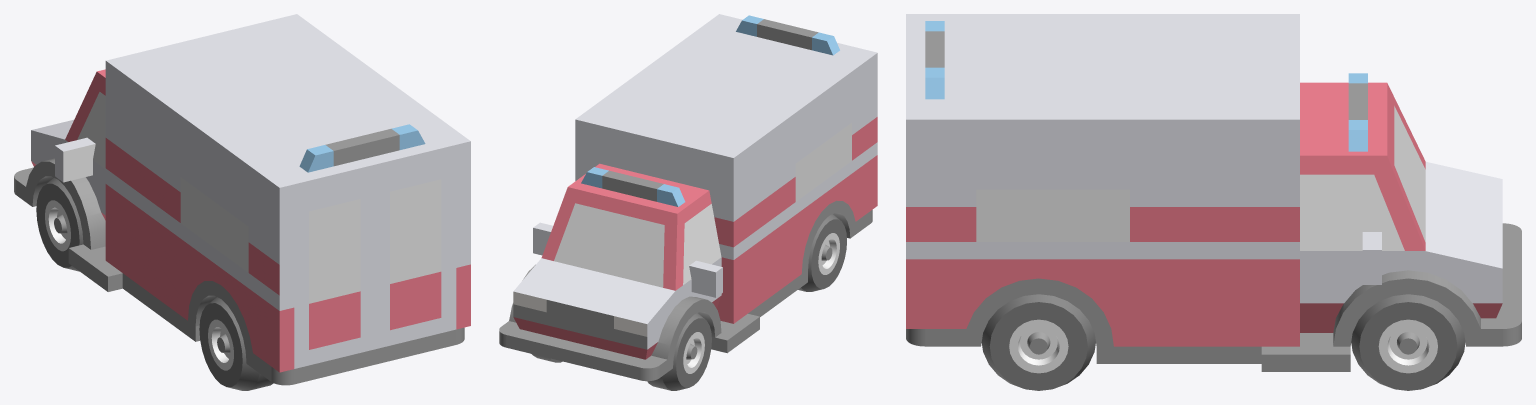
The model's file is ambulance.gltf.
The picture shows the model from 3 angles, left to right: view 1: azimuth 30°, elevation 25°; view 2: azimuth 150°, elevation 25°; view 3: azimuth 270°, elevation 25°; orthographic projection. The views are drawn at different scales.
Visible parts, largest first — view 1: body, doorRight, doorLeft, wheel_backLeft, wheel_frontLeft; view 2: body, wheel_frontLeft, wheel_backLeft; view 3: body, wheel_frontRight, wheel_backRight.
Part boxes in pixels (x1,y1,x2,y2): body: (14, 14, 470, 385); doorRight: (375, 160, 456, 349); doorLeft: (294, 180, 375, 368); wheel_backLeft: (199, 297, 273, 390); wheel_frontLeft: (36, 177, 83, 271); body: (499, 14, 877, 381); wheel_frontLeft: (647, 313, 711, 390); wheel_backLeft: (798, 214, 846, 291); body: (906, 14, 1521, 371); wheel_frontRight: (1351, 294, 1465, 390); wheel_backRight: (981, 294, 1095, 390).
Bounding box in the file's own units: 1.5 × 1.7 × 3.2.
